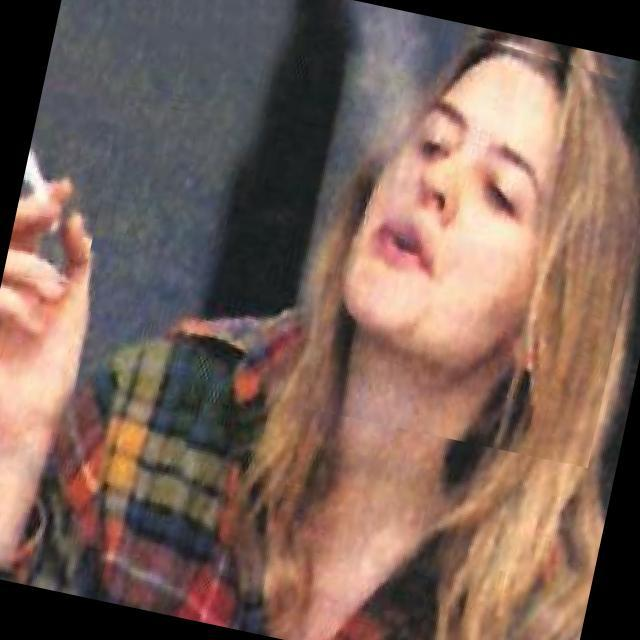cigarette: (2, 84, 122, 290)
